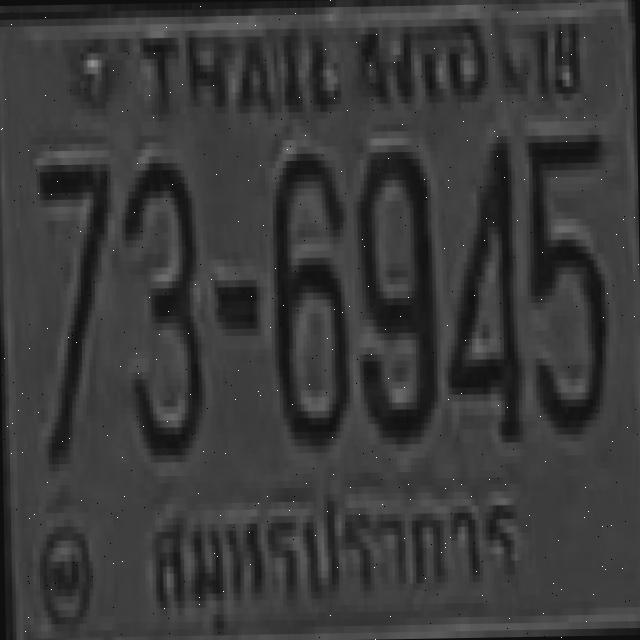3: (120, 156, 199, 456)
4: (444, 128, 520, 436)
5: (524, 127, 607, 427)
6: (268, 146, 346, 446)
7: (36, 157, 111, 457)
9: (352, 137, 435, 437)
SamutPrakan: (146, 456, 522, 640)
